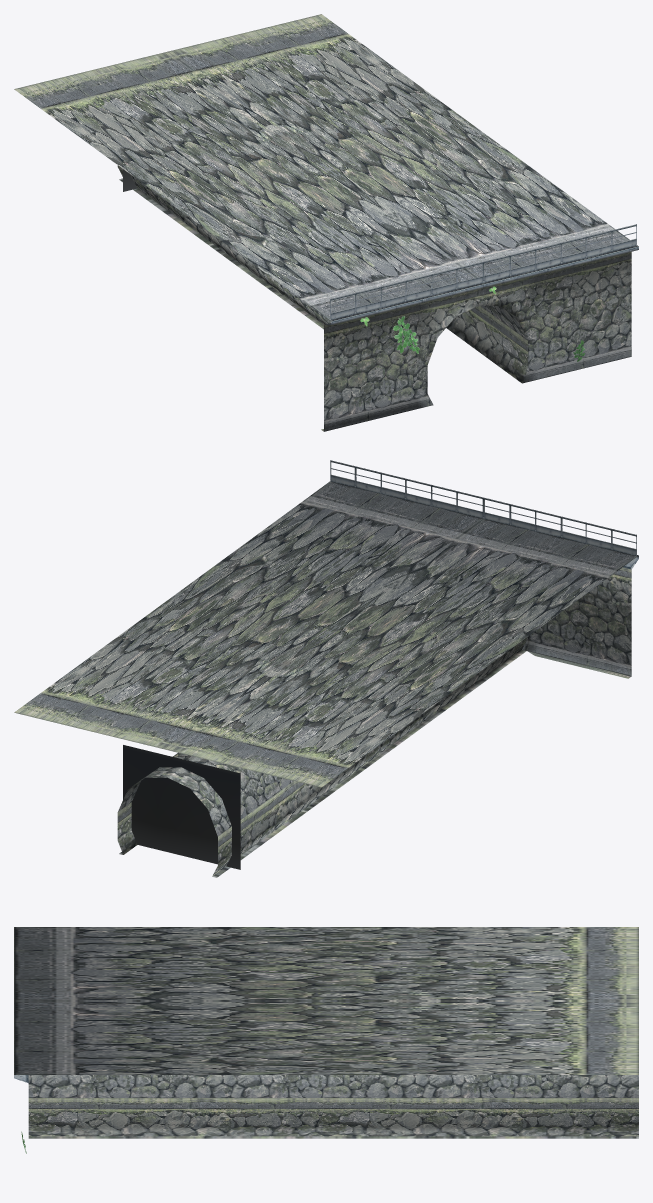
File: BLDG TRAIN  Overpass Tunnl B.fbx
3 renders of one model, top to bottom at view 1: azimuth 30°, elevation 25°; view 2: azimuth 150°, elevation 25°; view 3: azimuth 270°, elevation 25°, orthographic.
Visible parts, largest first — view 1: OVERPASS TRAIN Tunnel B; view 2: OVERPASS TRAIN Tunnel B; view 3: OVERPASS TRAIN Tunnel B.
Boxes of the visible parts, x1,y1,x2,y2 form: OVERPASS TRAIN Tunnel B: [14, 14, 638, 431]; OVERPASS TRAIN Tunnel B: [14, 460, 638, 877]; OVERPASS TRAIN Tunnel B: [14, 927, 638, 1153].
Size of the model in its own units: 1200 by 512 by 2145.
